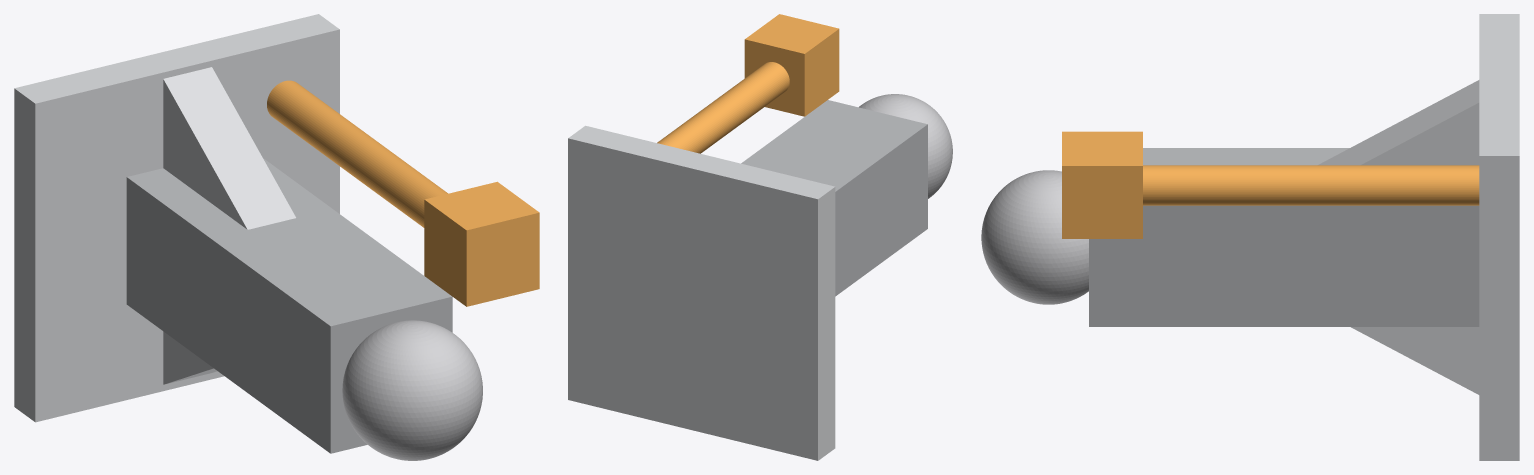
The model's file is rover37_hitch_coupler_active.glb.
3 renders of one model, left to right at view 1: azimuth 30°, elevation 25°; view 2: azimuth 150°, elevation 25°; view 3: azimuth 270°, elevation 25°, orthographic. The views are drawn at different scales.
Visible parts, largest first — view 1: mount_plate, drawbar, umbilical, hitch_ball, gussets; view 2: mount_plate, drawbar, umbilical, hitch_ball; view 3: drawbar, umbilical, mount_plate, gussets, hitch_ball.
Boxes of the visible parts, x1=… form: mount_plate: x1=14, y1=14, x2=339, y2=422; drawbar: x1=126, y1=158, x2=452, y2=453; umbilical: x1=267, y1=80, x2=539, y2=306; hitch_ball: x1=342, y1=320, x2=482, y2=460; gussets: x1=163, y1=67, x2=295, y2=384; mount_plate: x1=568, y1=125, x2=835, y2=460; drawbar: x1=741, y1=100, x2=927, y2=296; umbilical: x1=657, y1=14, x2=839, y2=153; hitch_ball: x1=859, y1=94, x2=952, y2=198; drawbar: x1=1089, y1=148, x2=1479, y2=326; umbilical: x1=1062, y1=131, x2=1479, y2=238; mount_plate: x1=1479, y1=14, x2=1519, y2=460; gussets: x1=1318, y1=80, x2=1479, y2=394; hitch_ball: x1=981, y1=170, x2=1088, y2=304.
Bounding box in the file's own units: 0.25 × 0.25 × 0.4.
